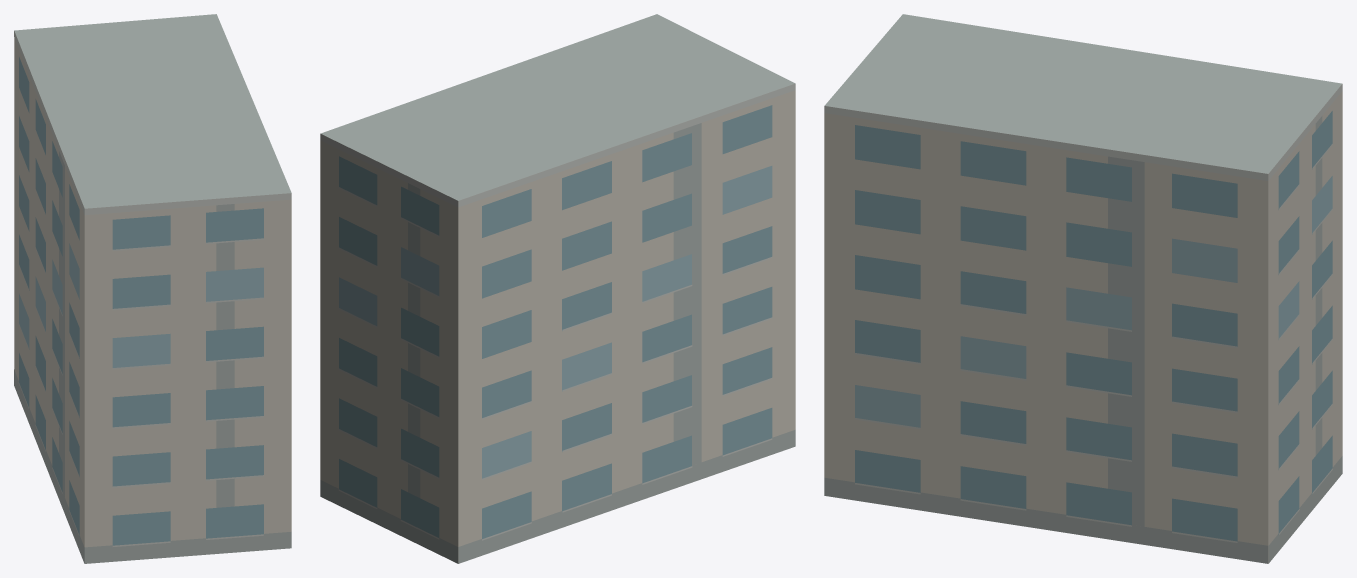
File: survey-upis-32882640.glb
The picture shows the model from 3 angles, left to right: view 1: azimuth 30°, elevation 25°; view 2: azimuth 150°, elevation 25°; view 3: azimuth 270°, elevation 25°; orthographic projection. The views are drawn at different scales.
Visible parts, largest first — view 1: survey-upis-32882640.tmp; view 2: survey-upis-32882640.tmp; view 3: survey-upis-32882640.tmp.
Part boxes in pixels (x1,y1,x2,y2): survey-upis-32882640.tmp: (14,14,291,563); survey-upis-32882640.tmp: (320,14,795,563); survey-upis-32882640.tmp: (824,14,1342,563).
Bounding box in the file's own units: 11.71 × 13.3 × 16.03.
